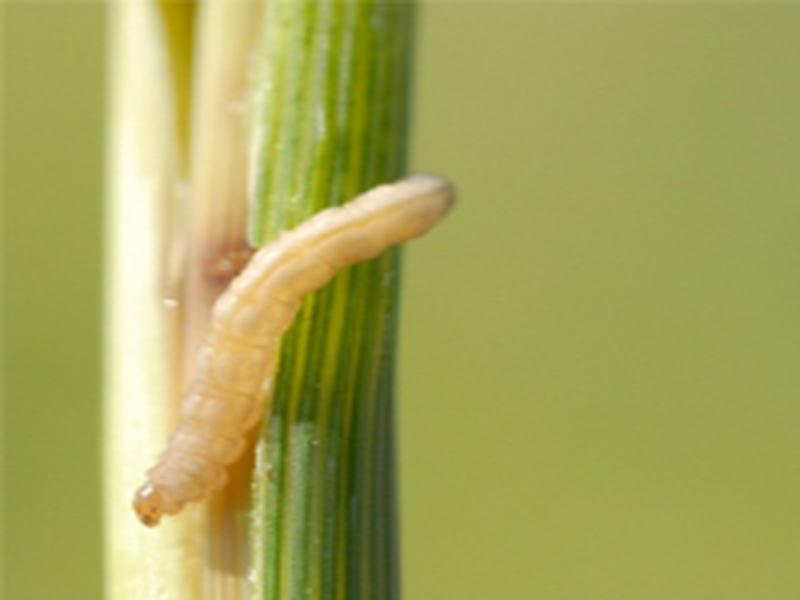Rice_skipper: (122, 158, 463, 539)
